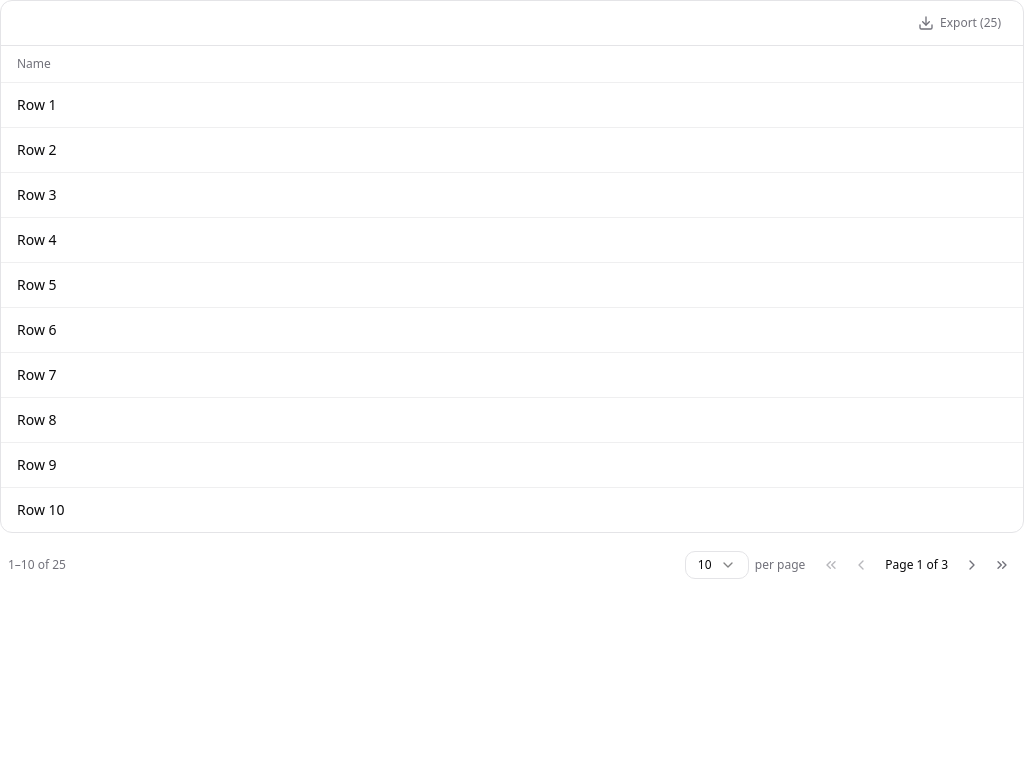
it: DataTable — unit › Pagination › clicking Next advances to page 2
The image size is (1024, 768).
Click the button named "next": (972, 564) [958, 550, 986, 578]
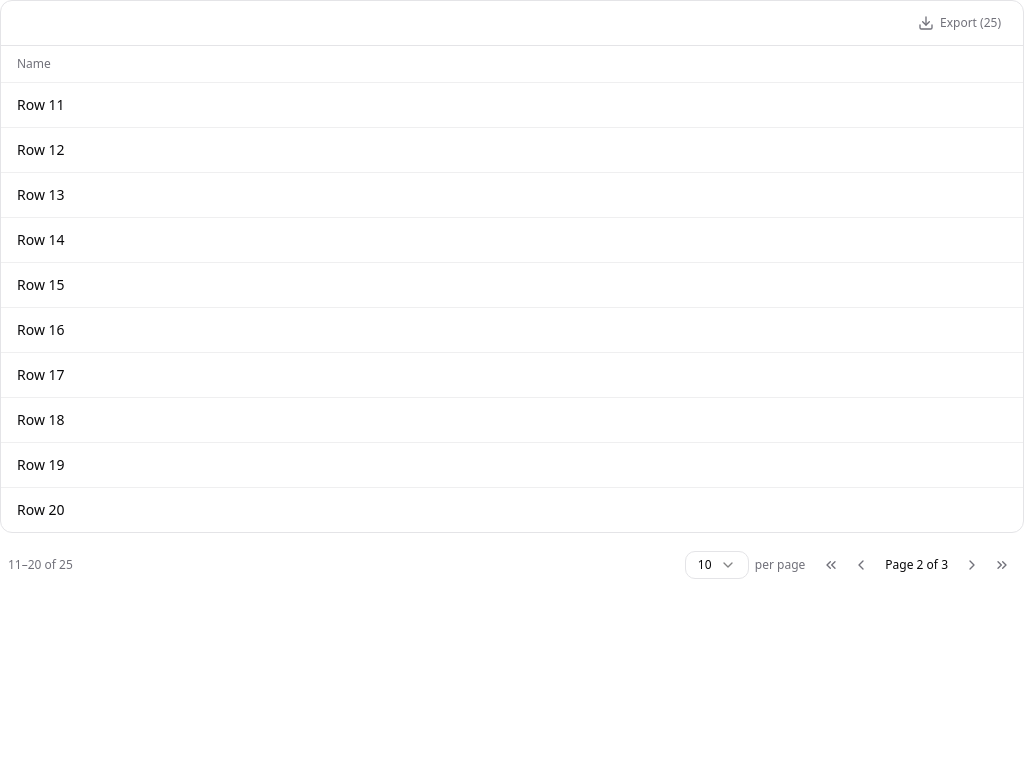
Expected: the text "Page 2 of 3" is shown, [885, 556, 948, 572]
